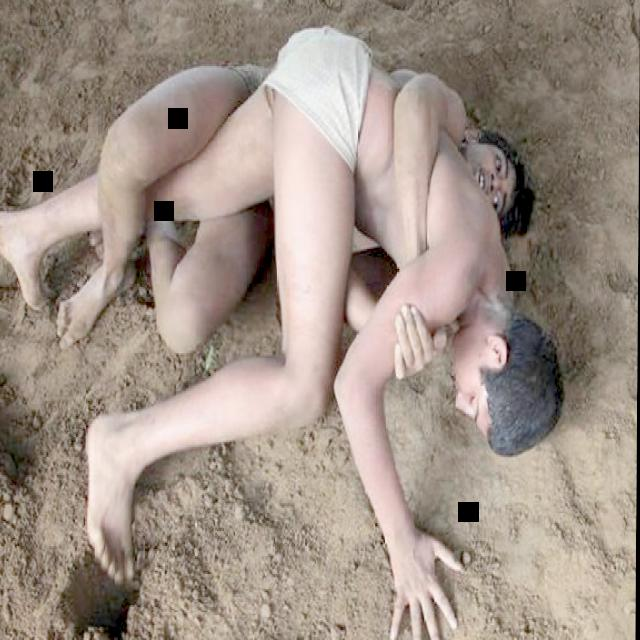Fall-Detected: (59, 0, 577, 640)
